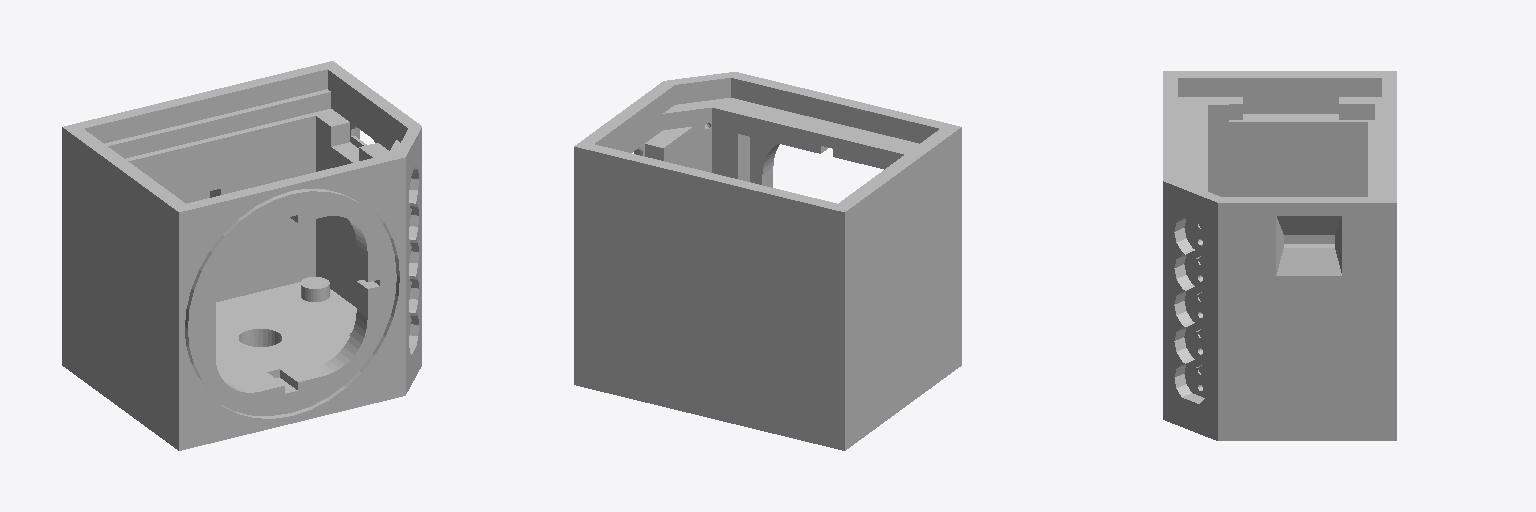
The model's file is controller_mounting.obj.
3 views of the same model, side by side, from view 1: azimuth 30°, elevation 25°; view 2: azimuth 150°, elevation 25°; view 3: azimuth 270°, elevation 25° (orthographic).
Visible parts, largest first — view 1: controller_mounting; view 2: controller_mounting; view 3: controller_mounting.
Part boxes in pixels (bbox=[...]): controller_mounting: bbox=[62, 61, 421, 450]; controller_mounting: bbox=[574, 72, 961, 450]; controller_mounting: bbox=[1163, 71, 1396, 440].
Bounding box in the file's own units: 42761 × 36000 × 32000.